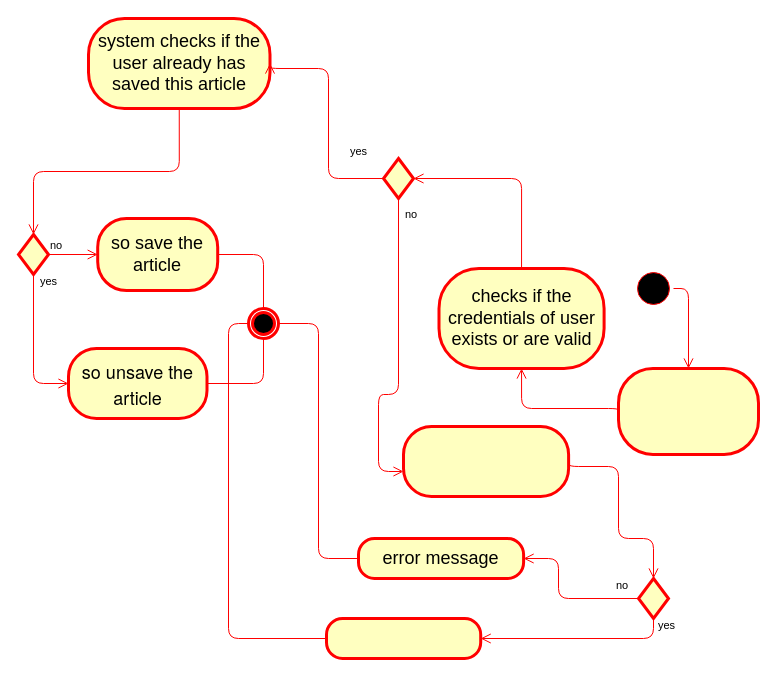
Some shapes in this 777 by 677 pixel diagram are drawn without their labels. Each missing label, with the centre of its shape:
"check if the access token is expired" belongs at point 486,461.
"need refresh" belongs at point 403,638.
"user clicks on the save shape button" belongs at point 688,411.
